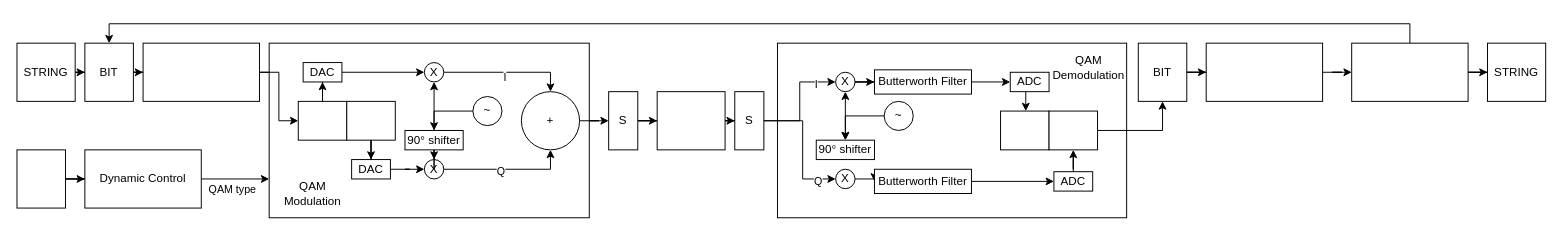
Image size: 1563x235. Some labels were removed from this diagram. The shapes that lost their labels are listed below. From the top down, each one's centre as x and y in pixels, then its label:
At (x=200, y=71): "Hamming Encoding".
At (x=1264, y=71): "Hamming Decoding".
At (x=1409, y=71): "Auto Resending".
At (x=690, y=120): "Mata Model".
At (x=40, y=178): "SNR".
